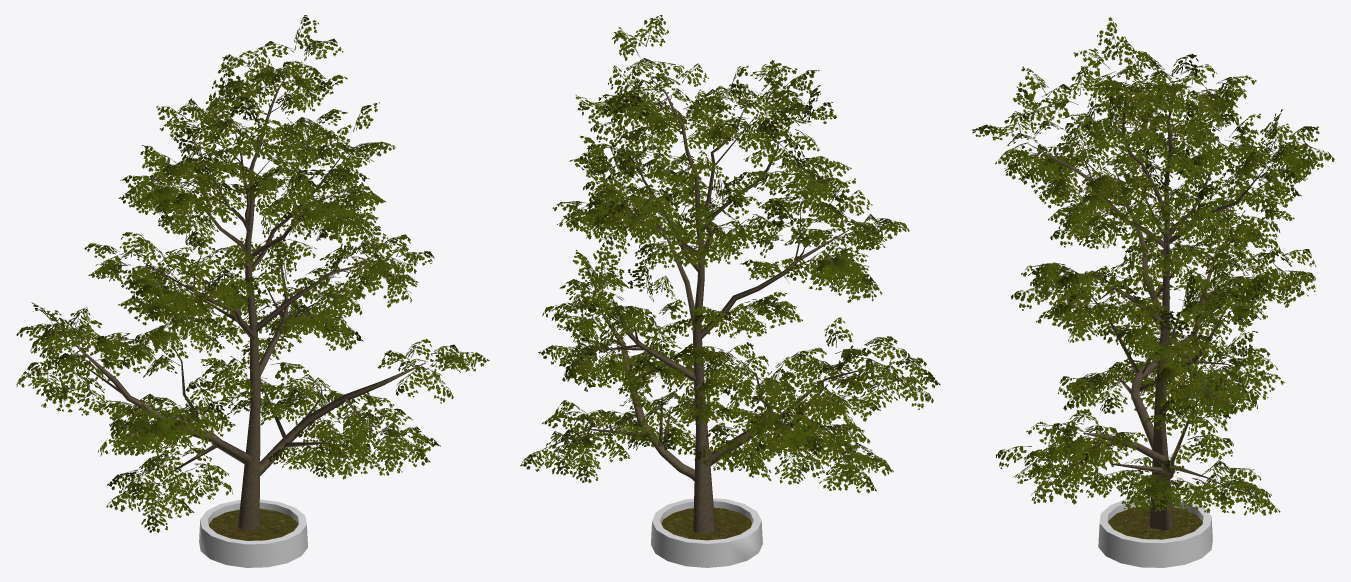
File: nc_tree_01.fbx
3 renders of one model, left to right at view 1: azimuth 30°, elevation 25°; view 2: azimuth 150°, elevation 25°; view 3: azimuth 270°, elevation 25°, orthographic. The views are drawn at different scales.
Visible parts, largest first — view 1: nc_tree_01_LOD0; view 2: nc_tree_01_LOD0; view 3: nc_tree_01_LOD0.
Part boxes in pixels (bbox=[...]): nc_tree_01_LOD0: bbox=[16, 15, 489, 567]; nc_tree_01_LOD0: bbox=[520, 15, 940, 567]; nc_tree_01_LOD0: bbox=[972, 17, 1334, 567].
Size of what is drawn, in the model's own units: 4.07 by 5 by 3.17.
